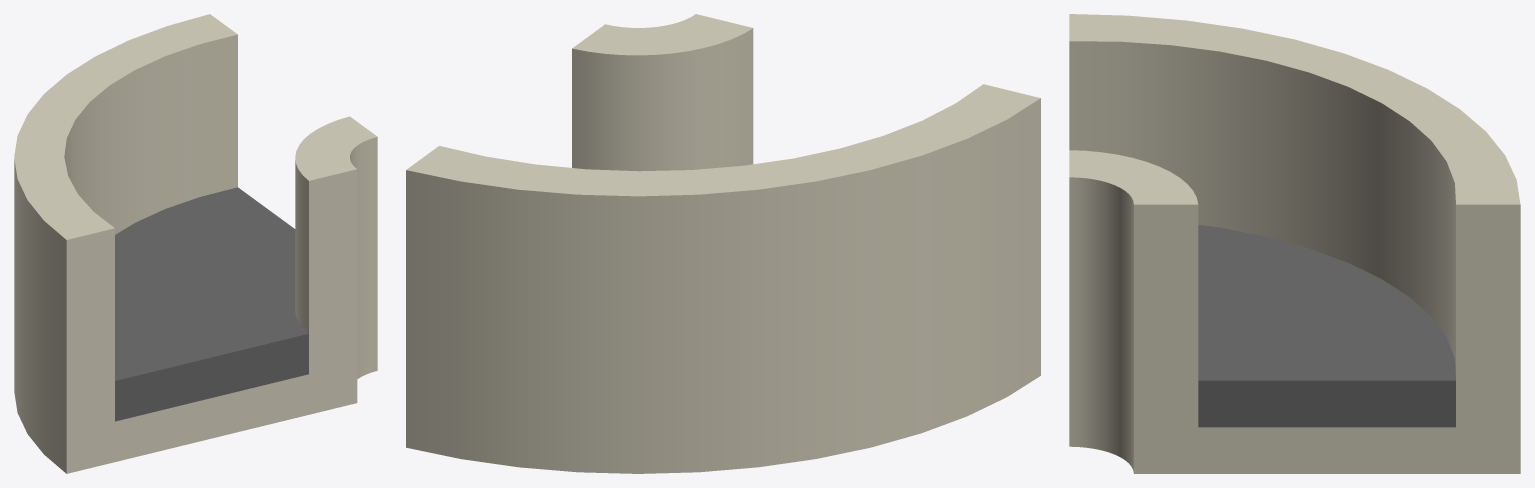
Rendered from tile167.dae.
The picture shows the model from 3 angles, left to right: view 1: azimuth 30°, elevation 25°; view 2: azimuth 150°, elevation 25°; view 3: azimuth 270°, elevation 25°; orthographic projection. The views are drawn at different scales.
Visible parts, largest first — view 1: tile167; view 2: tile167; view 3: tile167.
Boxes of the visible parts, x1=… form: tile167: x1=14, y1=14, x2=377, y2=473; tile167: x1=406, y1=14, x2=1040, y2=473; tile167: x1=1069, y1=14, x2=1520, y2=473.
Bounding box in the file's own units: 0.875 × 0.5767 × 0.875.
